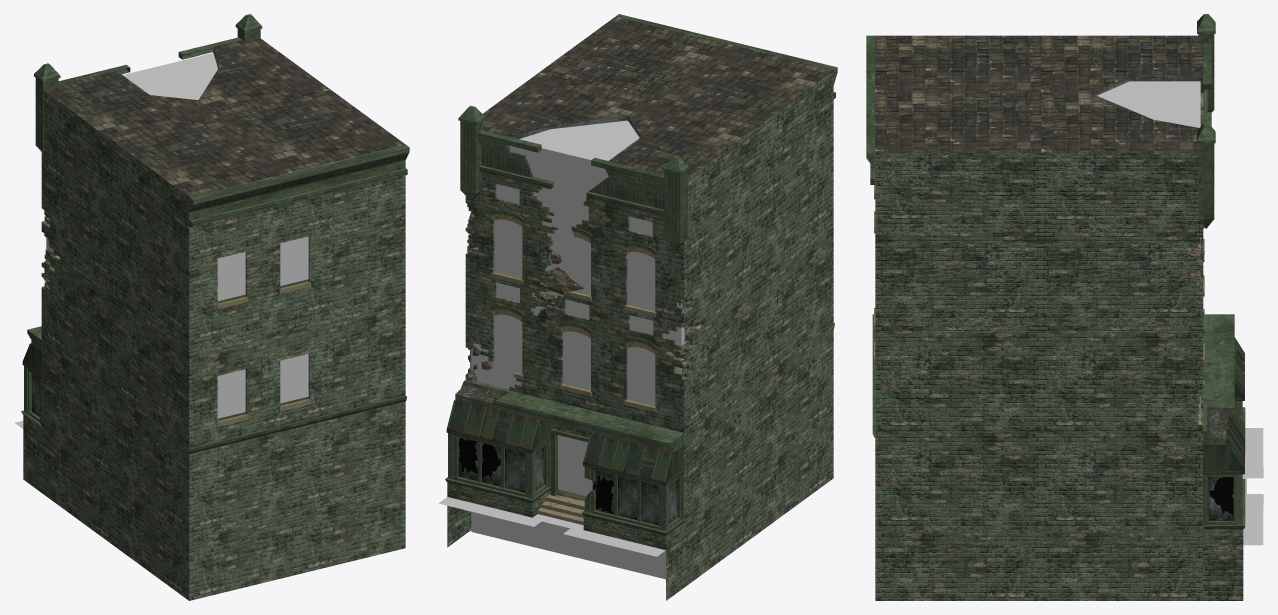
File: OTBuilding01.FBX
3 renders of one model, left to right at view 1: azimuth 30°, elevation 25°; view 2: azimuth 150°, elevation 25°; view 3: azimuth 270°, elevation 25°, orthographic. The views are drawn at different scales.
Visible parts, largest first — view 1: OTBldg01:6, OTBldg01:7, OTBldg01_lod:0; view 2: OTBldg01:6, OTBldg01:7, OTBldg01_lod:0, OTBldg01:33, OTBldg01:34, OTBldg01:74; view 3: OTBldg01:6, OTBldg01:7, OTBldg01_lod:0, OTBldg01:74, OTBldg01:34.
Boxes of the visible parts, x1,y1,x2,y2 form: OTBldg01:6: (23, 91, 405, 600); OTBldg01:7: (21, 14, 409, 453); OTBldg01_lod:0: (46, 53, 396, 418); OTBldg01:6: (447, 70, 833, 600); OTBldg01:7: (445, 14, 837, 535); OTBldg01_lod:0: (471, 120, 684, 579); OTBldg01:33: (505, 447, 677, 525); OTBldg01:34: (458, 415, 652, 514); OTBldg01:74: (438, 497, 665, 556); OTBldg01:6: (875, 153, 1243, 600); OTBldg01:7: (866, 14, 1245, 528); OTBldg01_lod:0: (1097, 81, 1200, 419); OTBldg01:74: (1242, 428, 1263, 545); OTBldg01:34: (1208, 477, 1233, 520).
Size of the model in its own units: 6.51 by 12.03 by 9.16.
